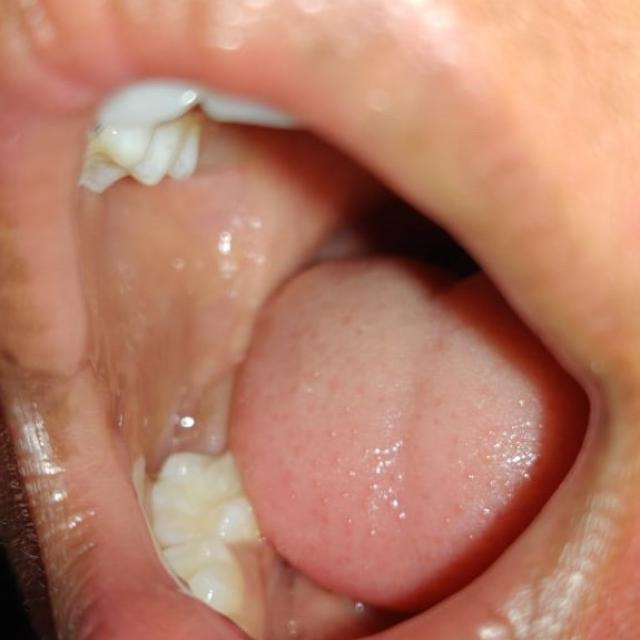No Cancer: (71, 164, 467, 520)
